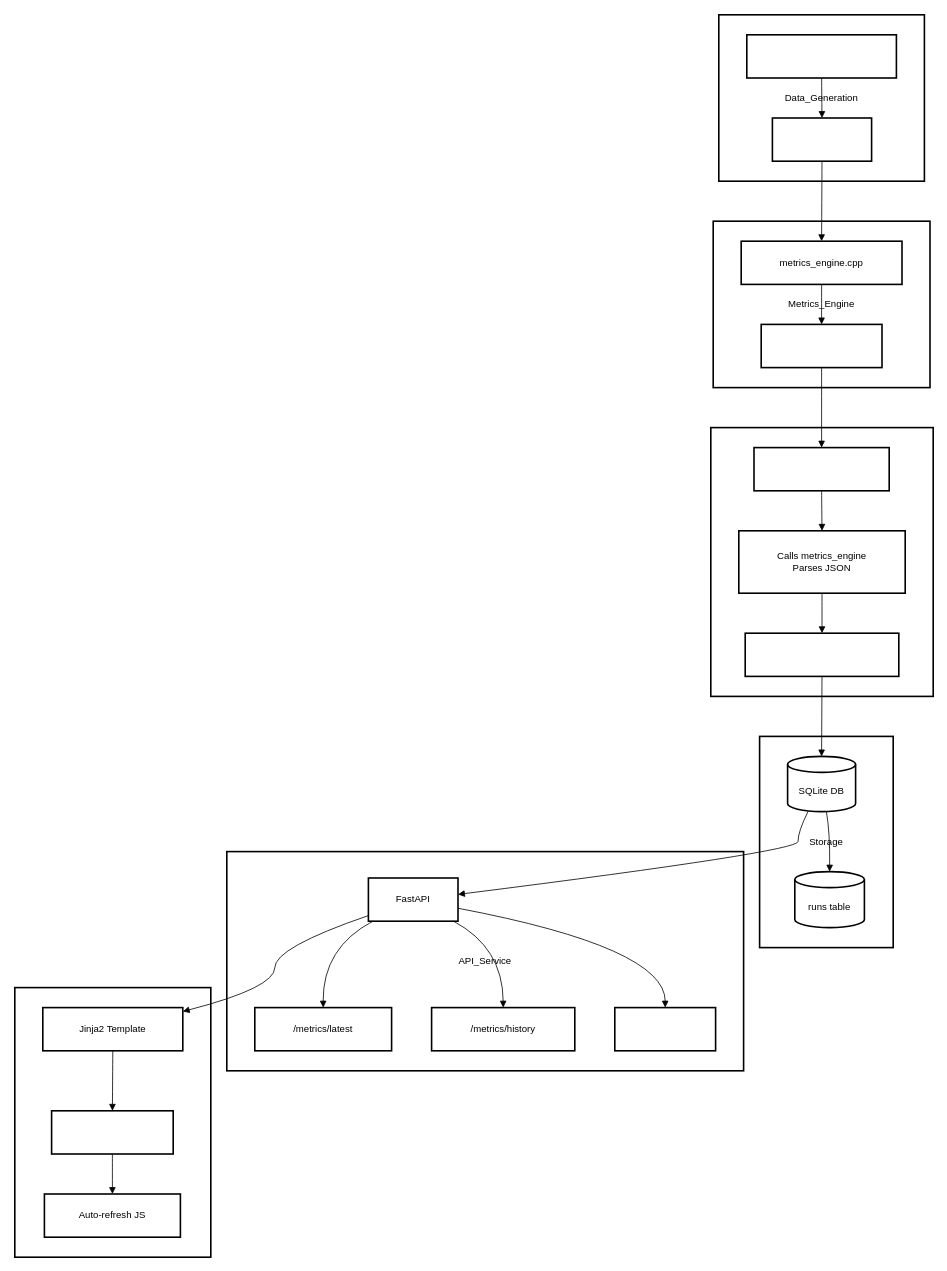
Some shapes in this 947 by 1271 pixel diagram are drawn without their labels. Here are the shapes that lost their labels. From the top down, the centre of each, then its label:
At point 821,56: "generate_data.py".
At point 821,139: "CSV Files".
At point 821,345: "JSON Output".
At point 821,468: "orchestrator.py".
At point 821,654: "Inserts into SQLite".
At point 665,1028: "/run/{id}".
At point 112,1132: "Plotly Charts".
